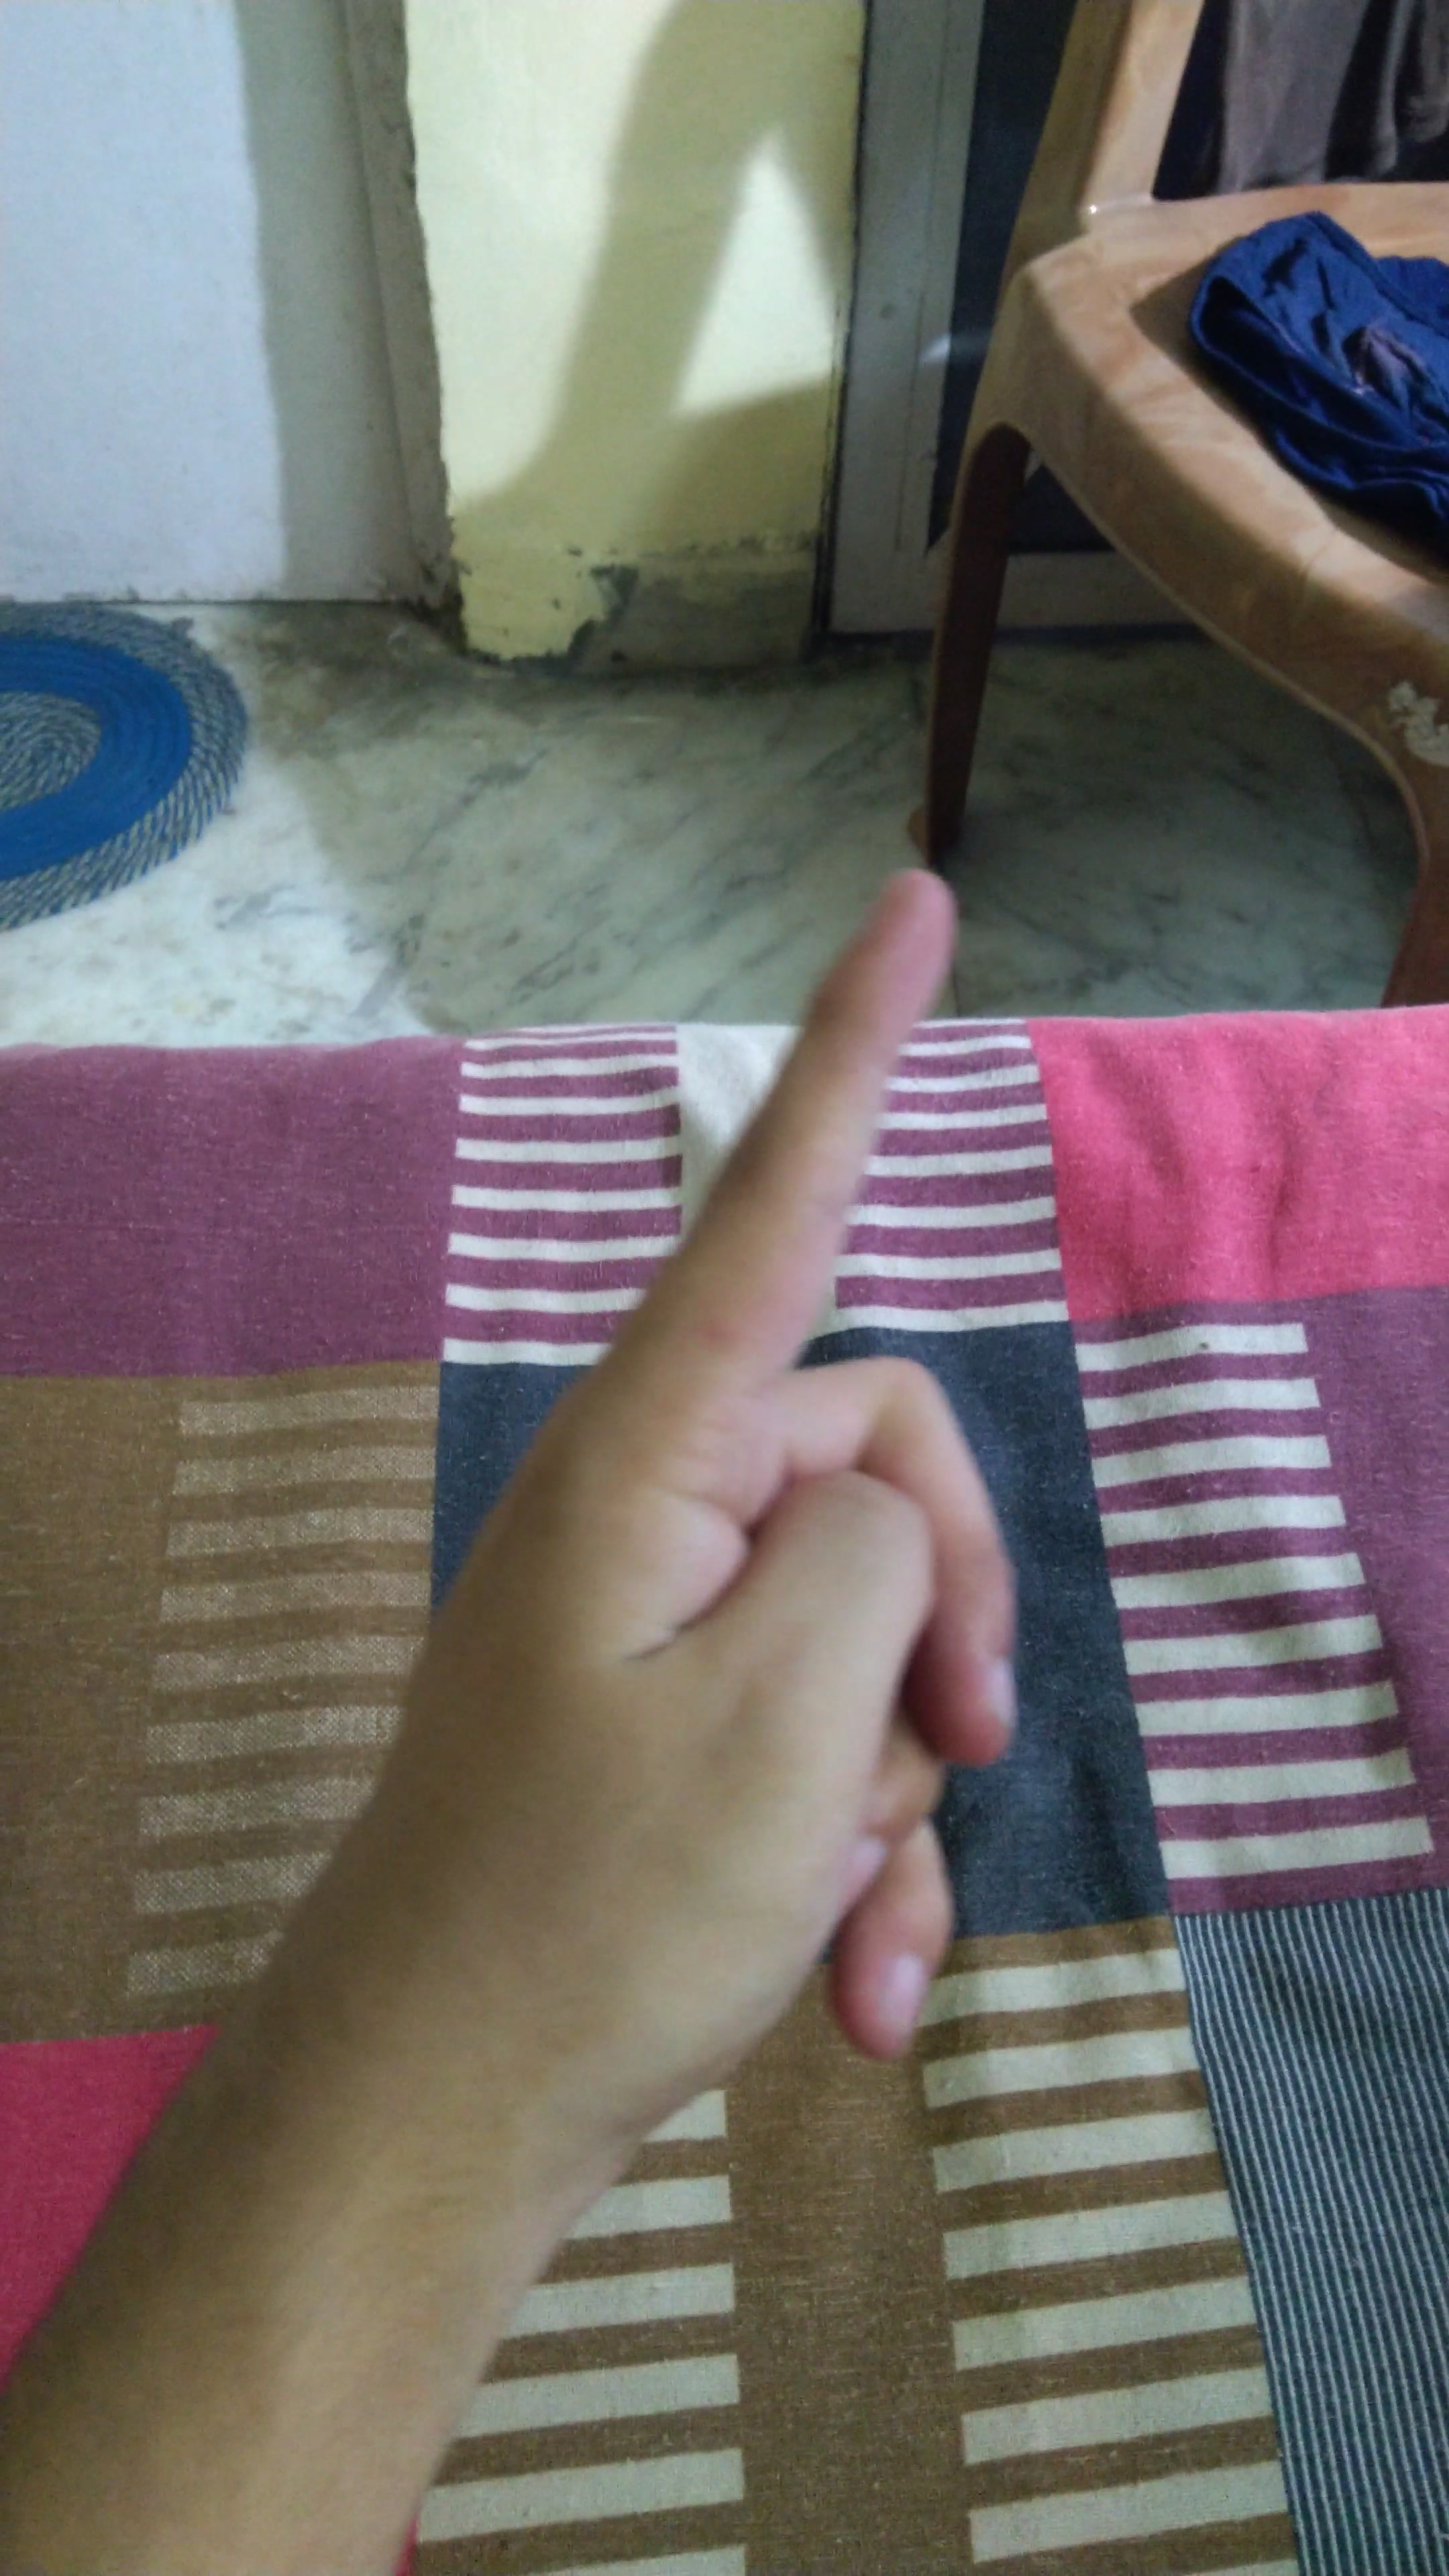hand: (292, 812, 1201, 2215)
